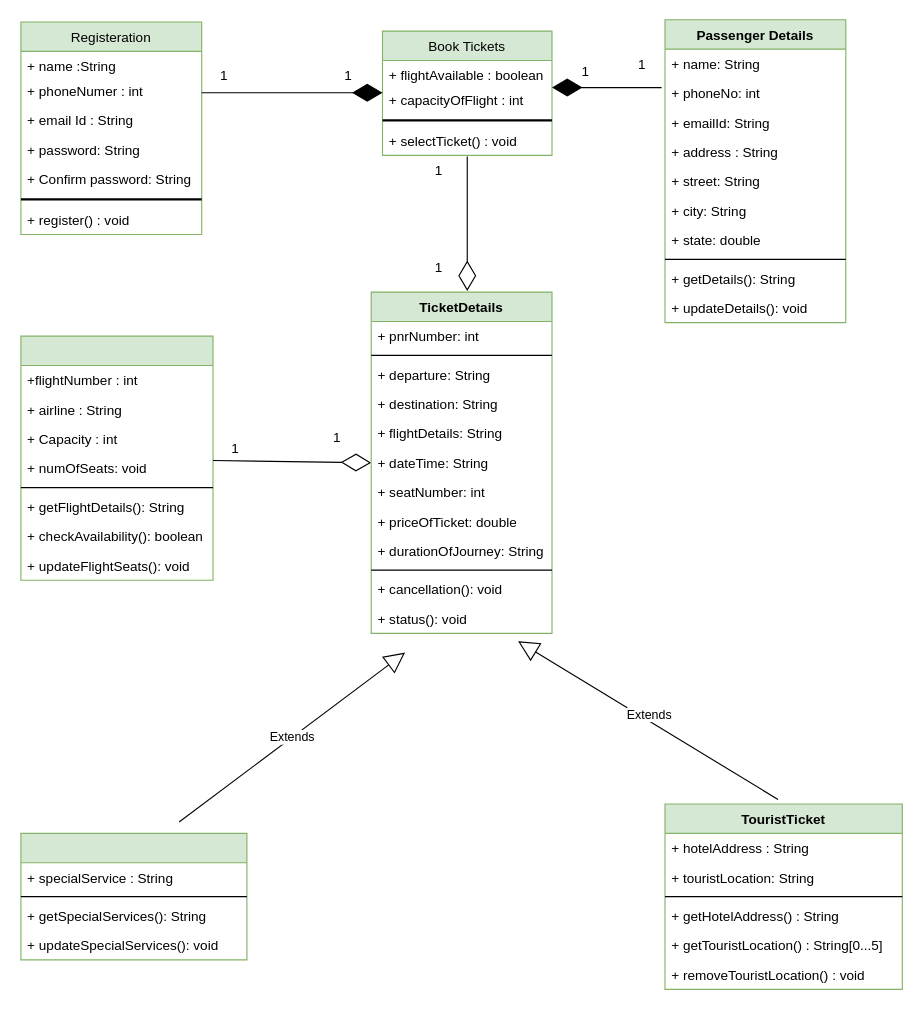
This 922x1012 diagram has some shape labels left out. The shapes that lost their labels are listed below. From the top down, each one's box as (x1, y1, x2, y2) in pixels, then its label:
(20, 335, 213, 580): FlightTracking
(20, 832, 247, 960): Regular Ticket
